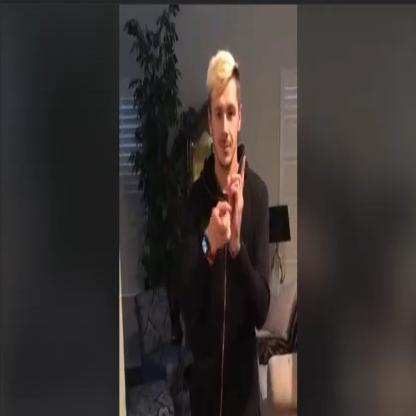NiceToMeetYou: (198, 126, 248, 251)
